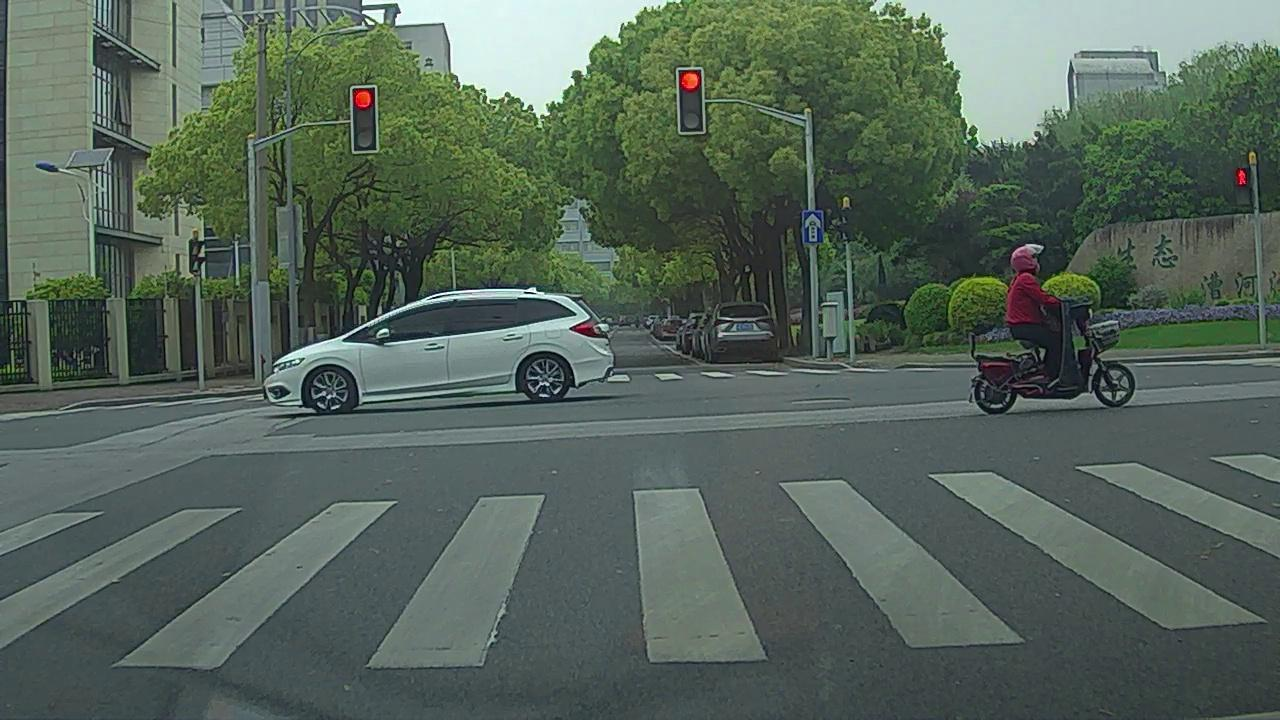traffic_light: (677, 68, 705, 133), (352, 87, 376, 150)
